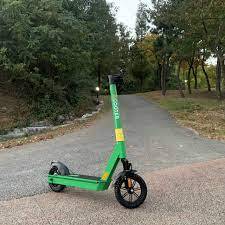kick_board: (45, 75, 147, 209)
kick_body: (66, 174, 108, 191)
kick_handler: (109, 75, 123, 84)
kick_neck: (110, 86, 128, 156)
kick_wheel: (116, 172, 148, 208), (47, 161, 68, 192)
